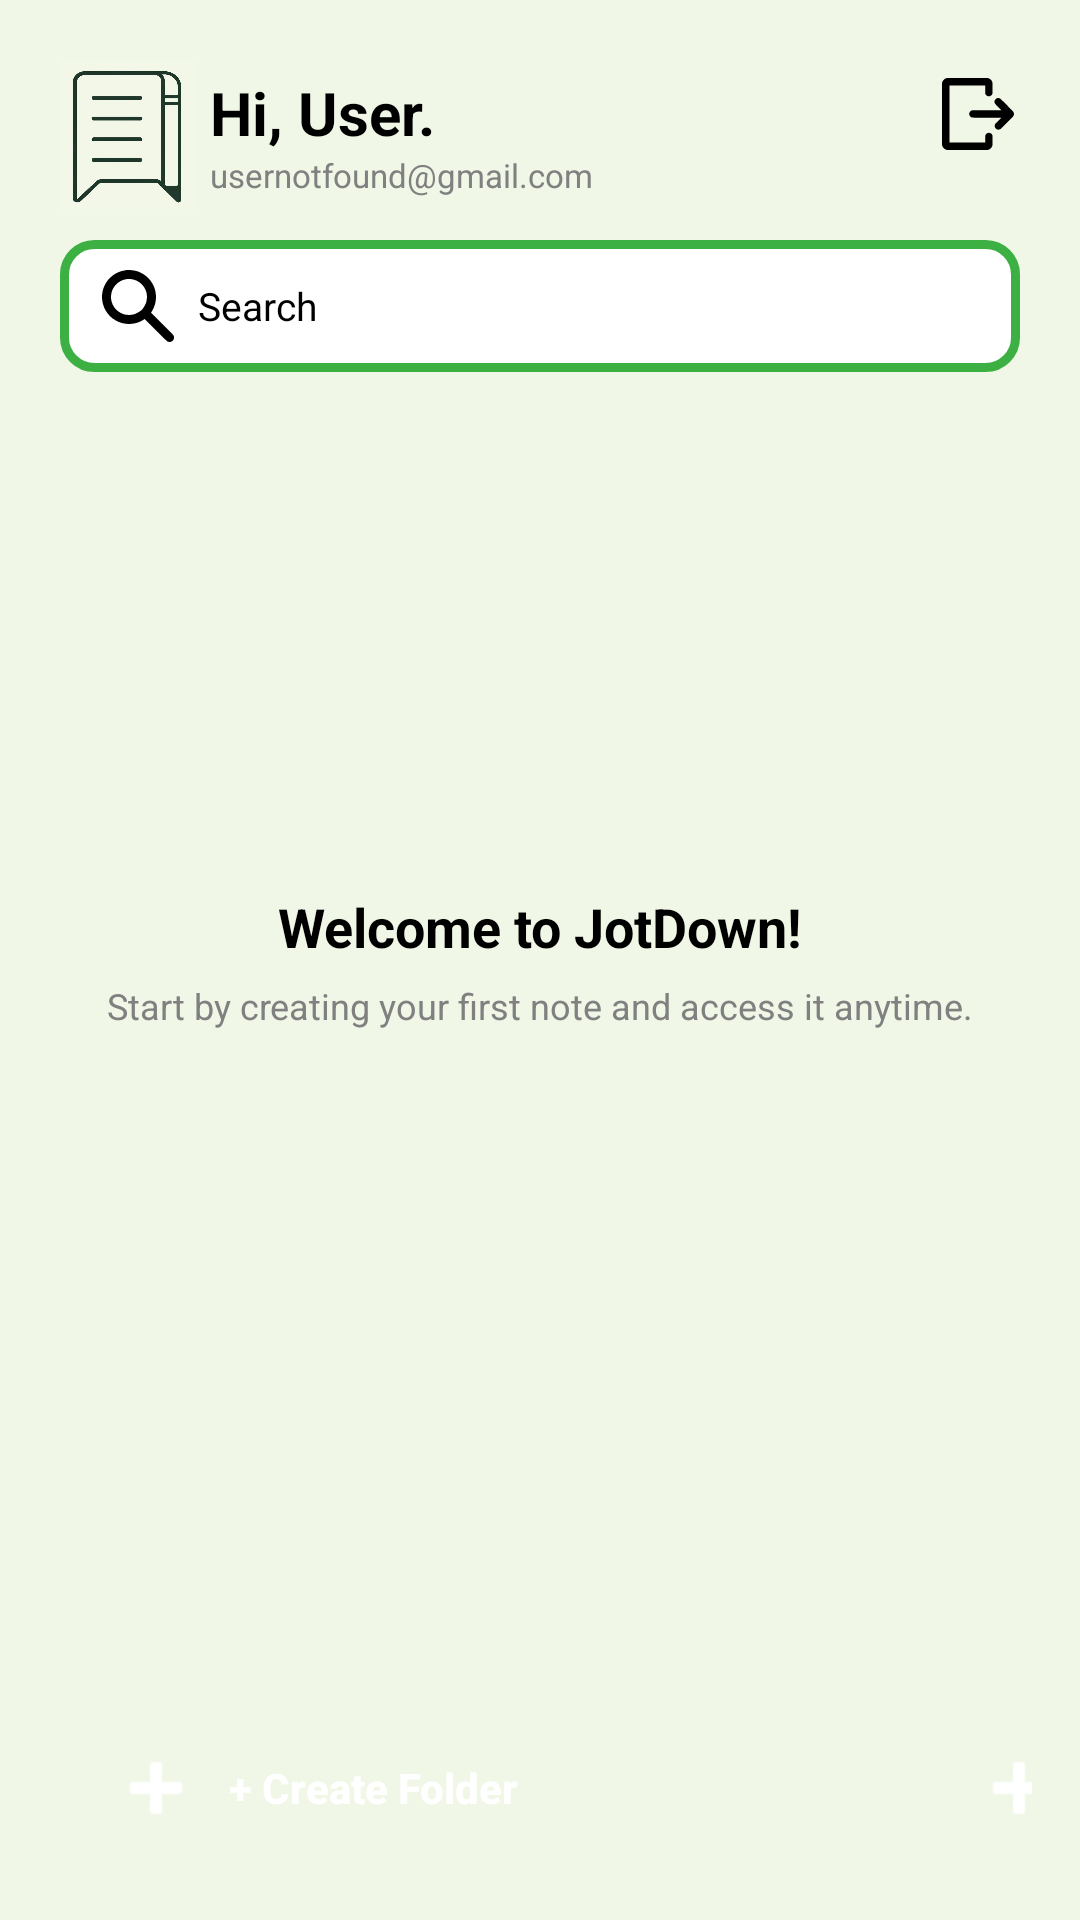

Screen size 1080 × 1920. Icon name, then its box in pixels as (x1, y1, x2, y2):
jotdown: (73, 71, 181, 203)
